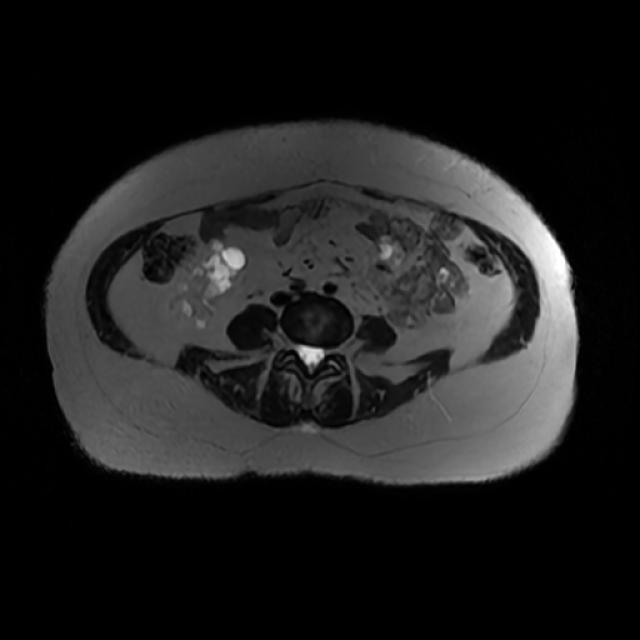sag: (179, 237, 246, 321)
